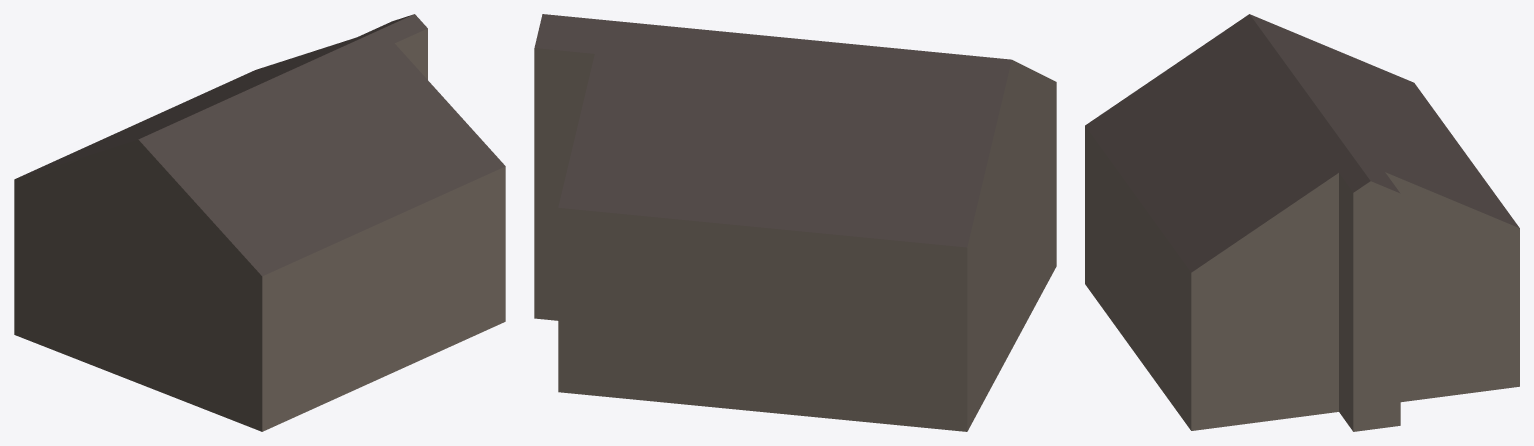
The picture shows the model from 3 angles, left to right: view 1: azimuth 30°, elevation 25°; view 2: azimuth 150°, elevation 25°; view 3: azimuth 270°, elevation 25°; orthographic projection. The views are drawn at different scales.
Parts seen in each view (by area): view 1: HP-w1323627516; view 2: HP-w1323627516; view 3: HP-w1323627516.
Part boxes in pixels (left/top/right/bottom): HP-w1323627516: left=14, top=14, right=505, bottom=431; HP-w1323627516: left=534, top=14, right=1056, bottom=431; HP-w1323627516: left=1085, top=14, right=1519, bottom=431.
Size of the model in its own units: 23.27 by 14.13 by 22.41.
